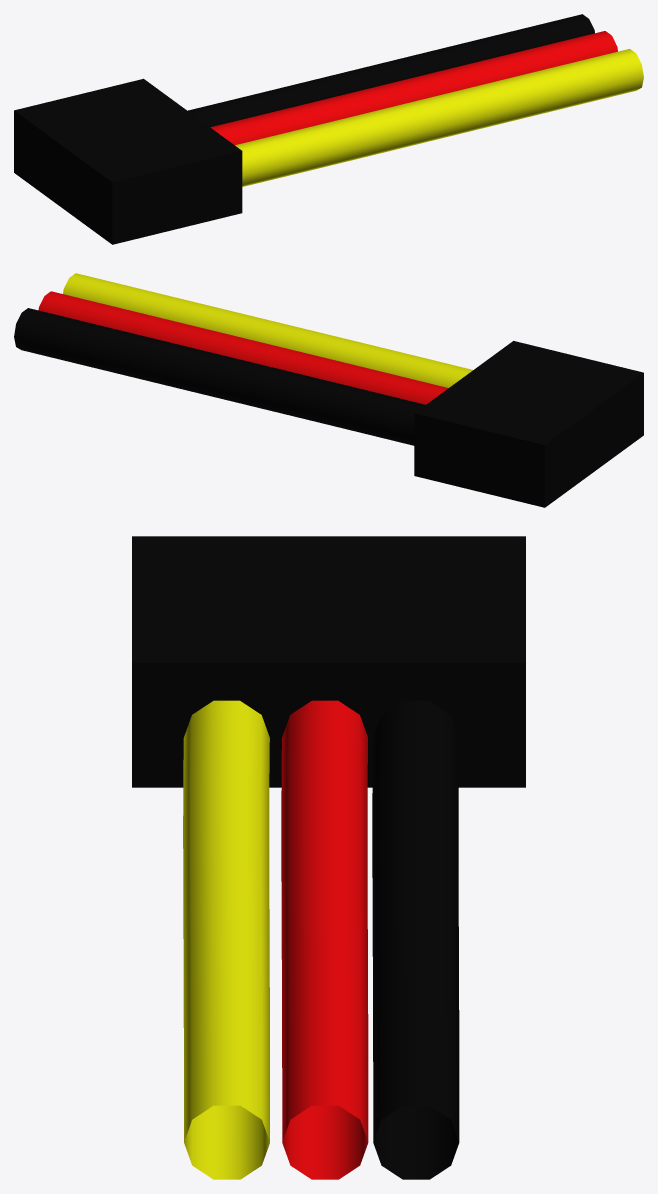
Rendered from bahankabel3.fbx.
3 views of the same model, one above another, from view 1: azimuth 30°, elevation 25°; view 2: azimuth 150°, elevation 25°; view 3: azimuth 270°, elevation 25° (orthographic). The views are drawn at different scales.
Parts seen in each view (by area): view 1: Cube, BezierCurve.002, BezierCurve, BezierCurve.001; view 2: Cube, BezierCurve.001, BezierCurve.002, BezierCurve; view 3: Cube, BezierCurve, BezierCurve.001, BezierCurve.002.
Part boxes in pixels (box(x1,y1,x2,y2)): Cube: box(14, 78, 242, 244); BezierCurve.002: box(235, 49, 643, 186); BezierCurve: box(210, 31, 617, 145); BezierCurve.001: box(188, 14, 594, 127); Cube: box(414, 341, 643, 507); BezierCurve.001: box(14, 308, 425, 445); BezierCurve.002: box(63, 273, 472, 387); BezierCurve: box(38, 291, 448, 404); Cube: box(132, 536, 525, 787); BezierCurve: box(281, 700, 368, 1179); BezierCurve.001: box(372, 700, 459, 1179); BezierCurve.002: box(183, 700, 269, 1179).
Size of the model in its own units: 135 by 14.82 by 42.42.
